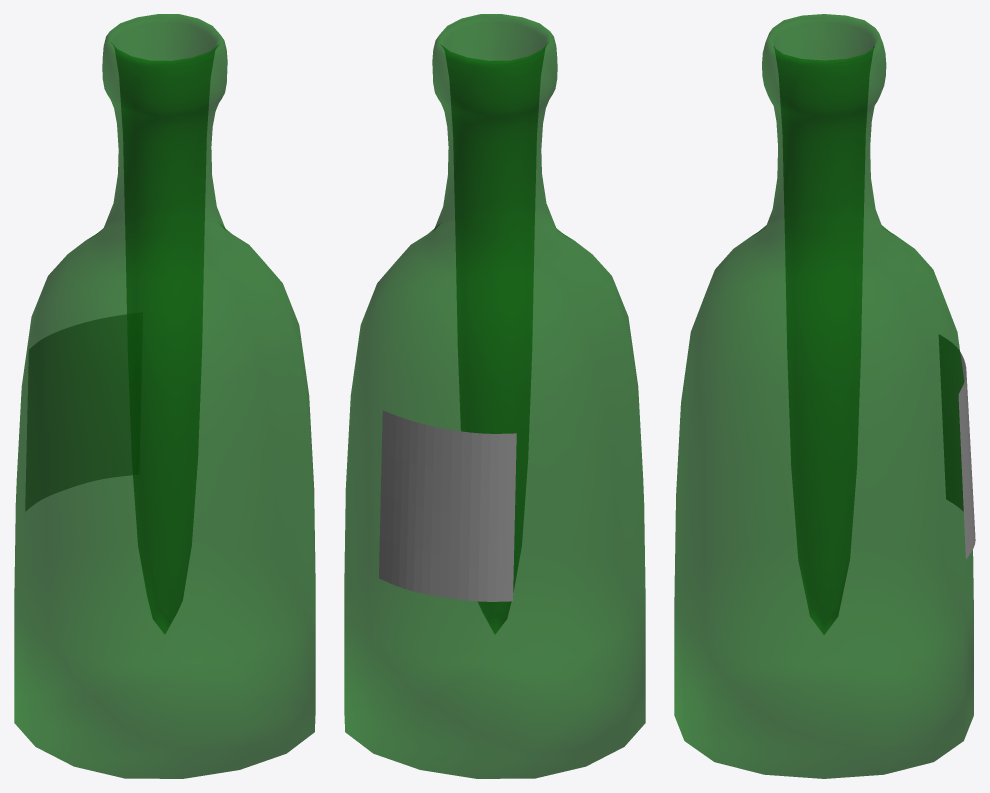
Rendered from bottle.obj.
3 views of the same model, side by side, from view 1: azimuth 30°, elevation 25°; view 2: azimuth 150°, elevation 25°; view 3: azimuth 270°, elevation 25° (orthographic).
Parts seen in each view (by area): view 1: Cube.018_Cube.1352; view 2: Cube.018_Cube.1352; view 3: Cube.018_Cube.1352.
Part boxes in pixels (x1,y1,x2,y2): Cube.018_Cube.1352: (14,14,315,778); Cube.018_Cube.1352: (344,14,645,778); Cube.018_Cube.1352: (674,14,975,778).
Bounding box in the file's own units: 1.05 × 2.63 × 1.06.
